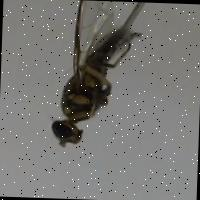Oriental-fruit-fly: (48, 0, 146, 156)
